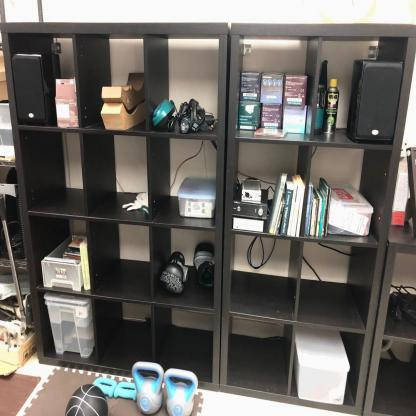lamp: (0, 17, 230, 395), (219, 21, 415, 415)
